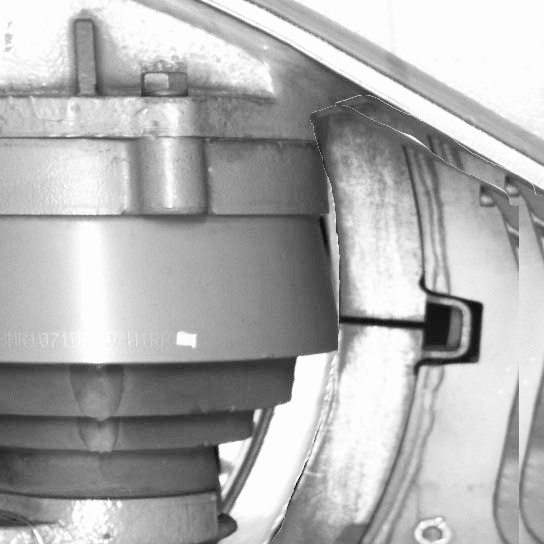ClosedKnifeSwitch: (262, 137, 453, 541)
